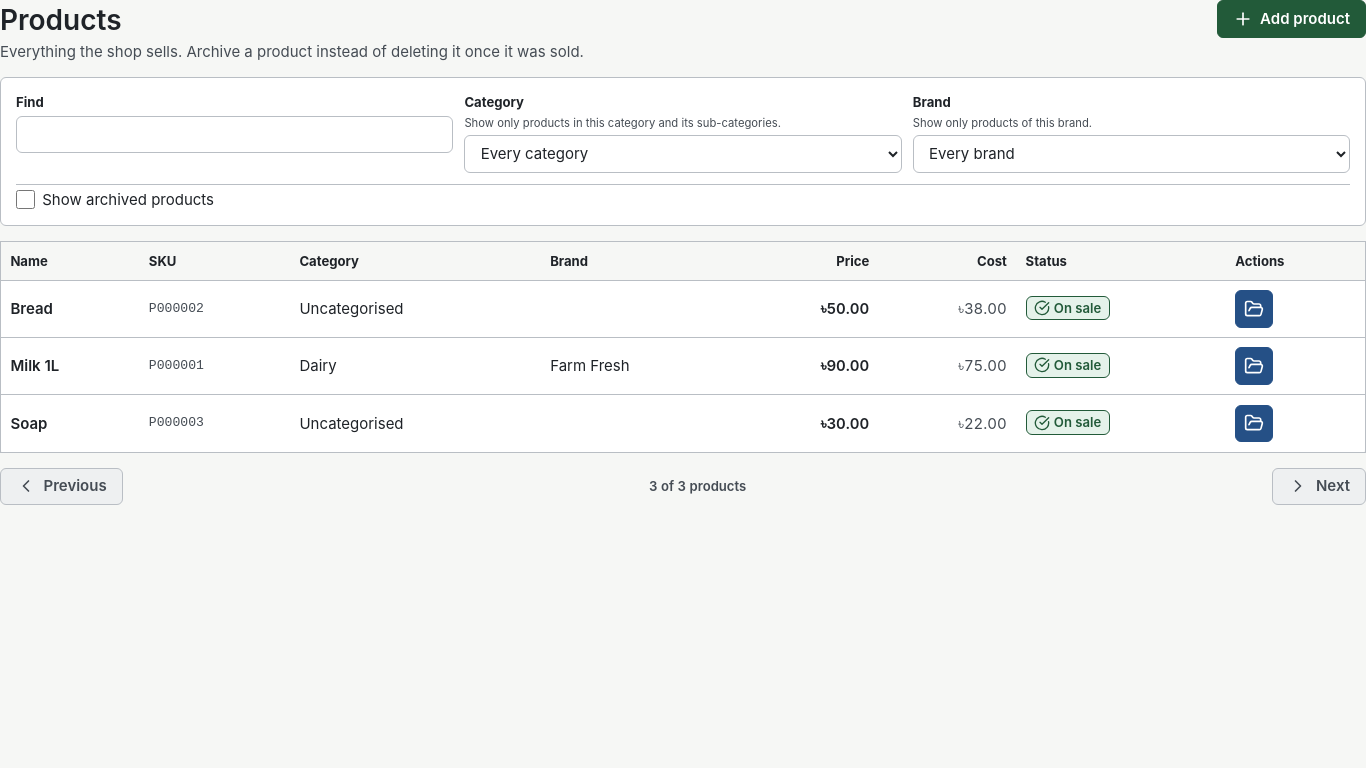
Scenario: ProductsPage (fake bridge) › cat_08: archive hides a product; it shows again with archived products and comes back
Click the button named "Open this product to change it. Bread".
click(1254, 309)  # box [1235,290,1273,328]
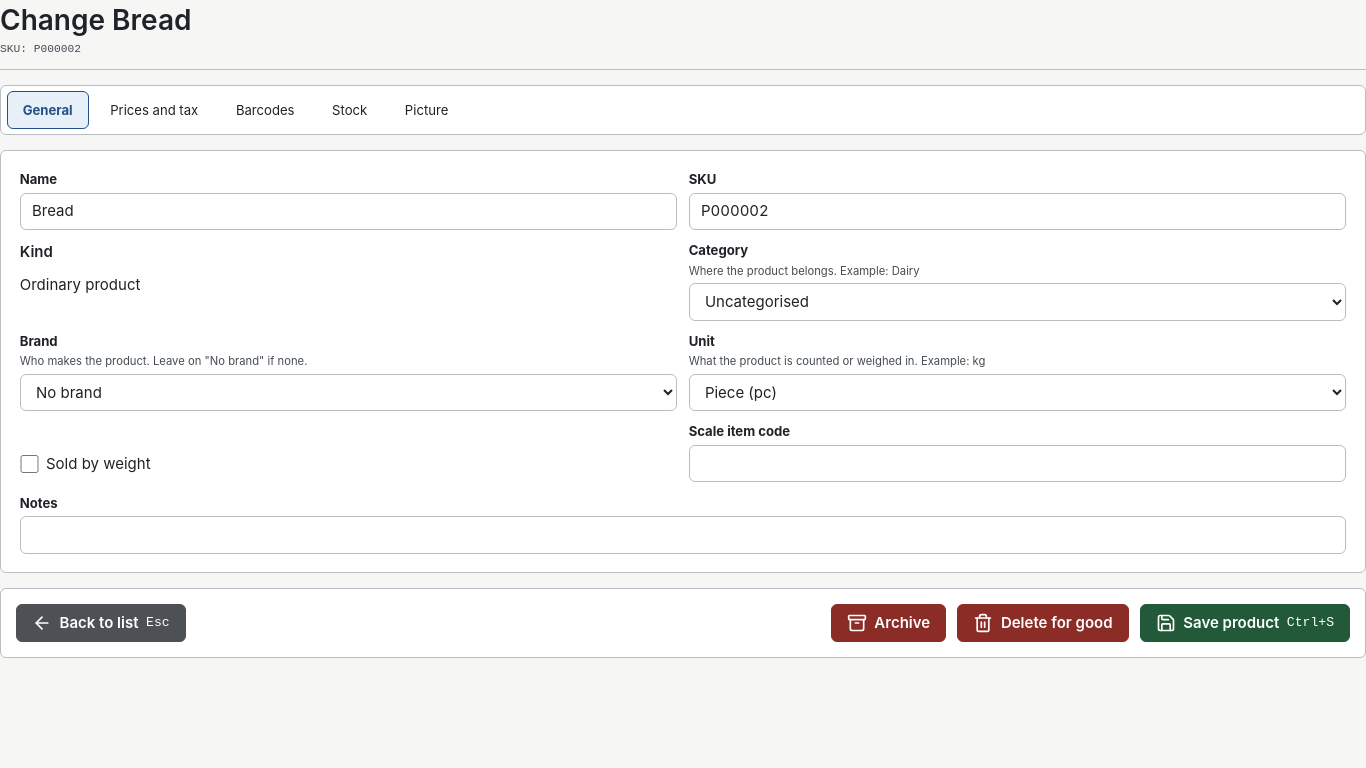
Click the button "Archive".
click(889, 623)  # box [831,604,946,642]
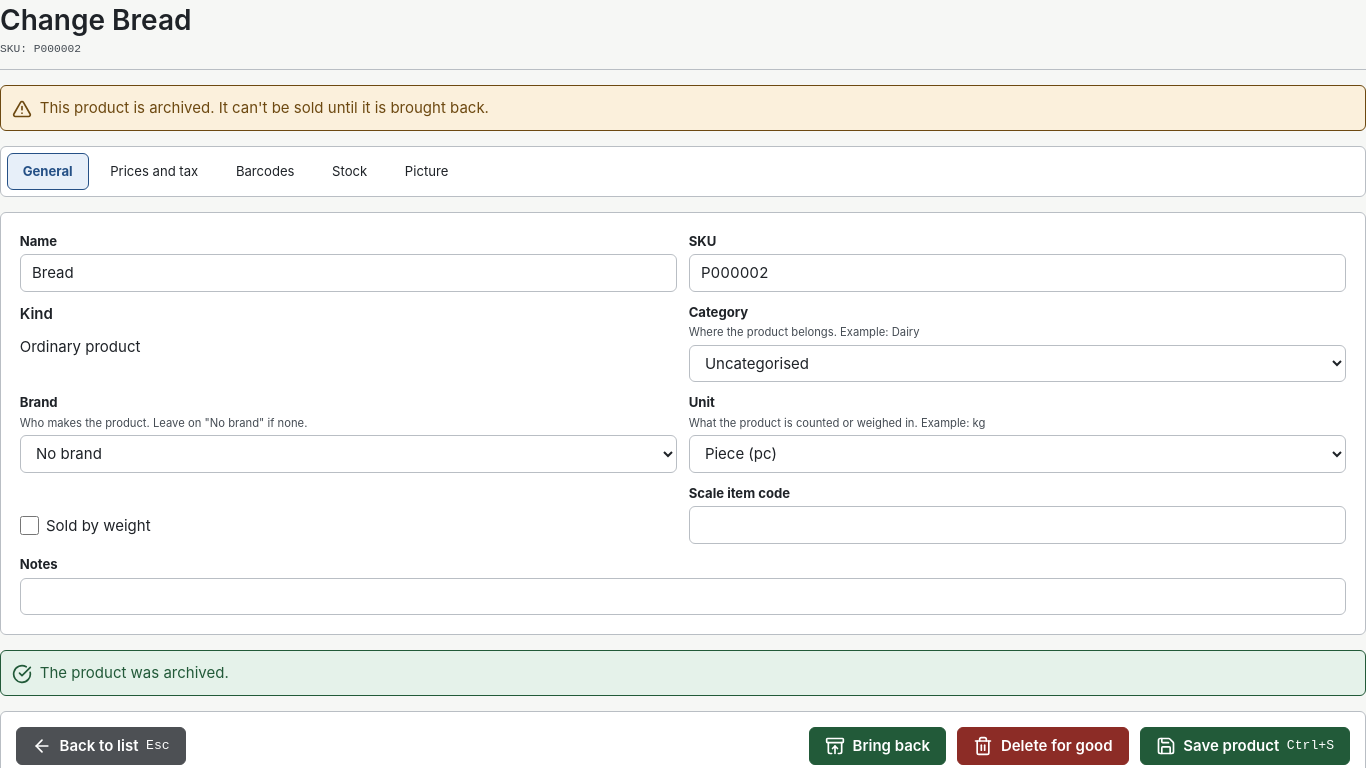
Check: the text "The product was archived." is shown, box [40,662,229,684]
Click the button "Back to list Esc".
click(101, 746)  # box [16,727,186,765]
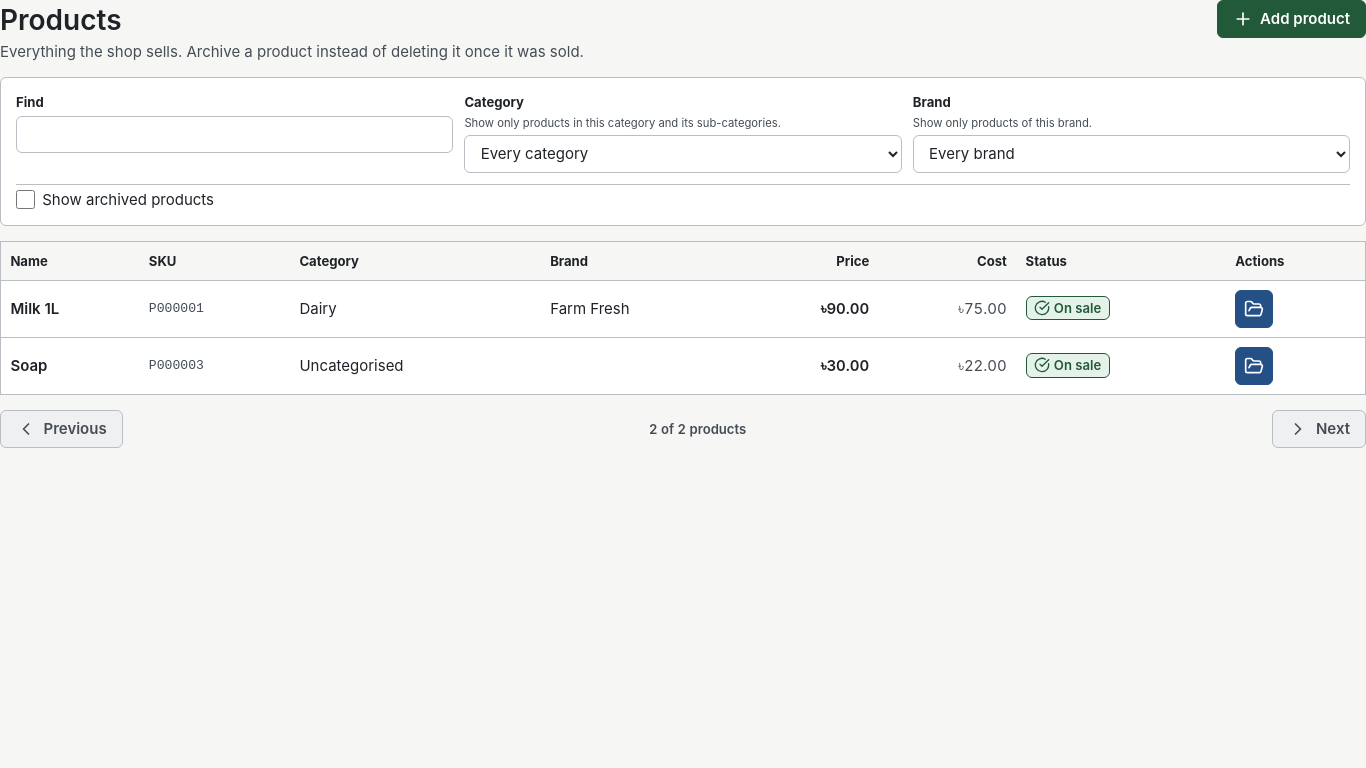
Check: the text "Milk 1L" is shown, box [0,280,139,338]
Check: the heading "Bread" is gone
Click the checkbox labelled "Show archived products".
click(25, 200)  # box [16,190,35,209]
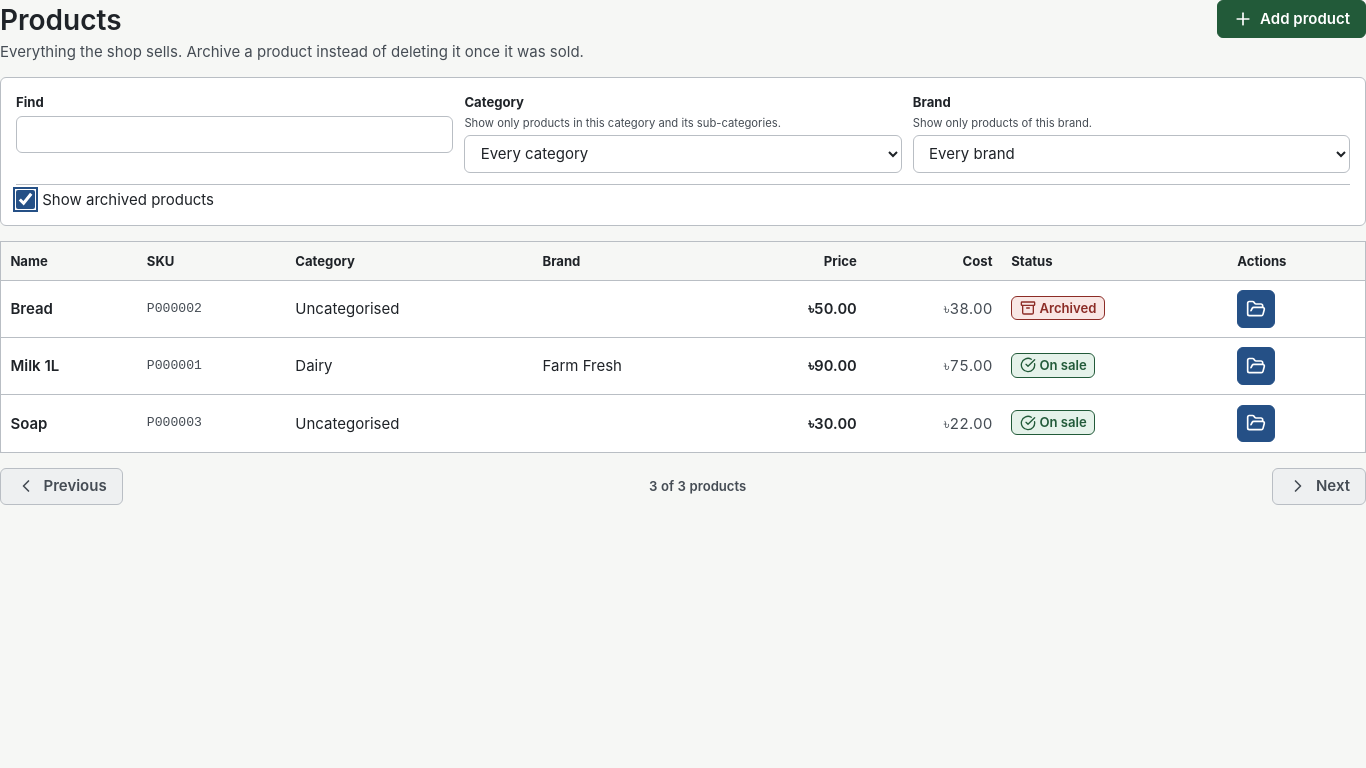
Click the button named "Open this product to change it. Bread".
click(1256, 309)  # box [1237,290,1275,328]
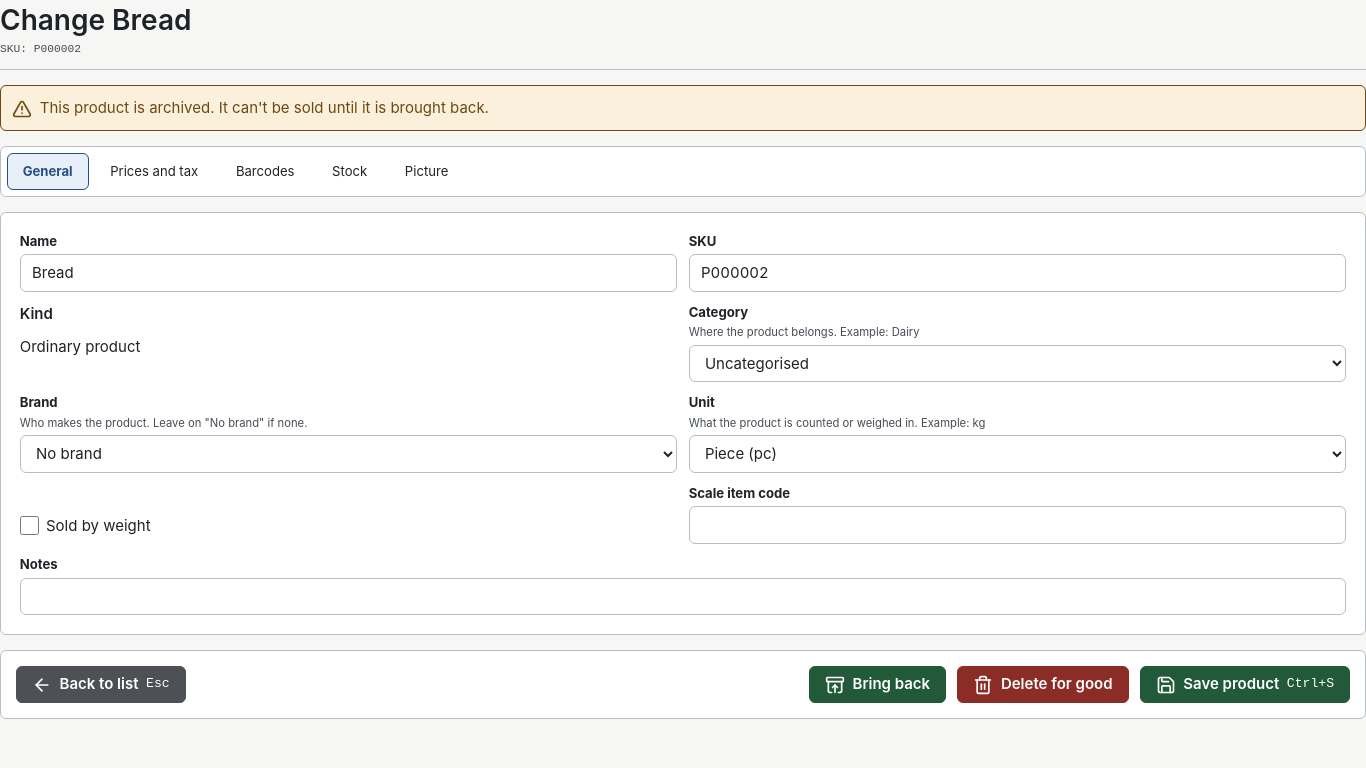
Click the button "Bring back".
click(878, 685)  # box [809,666,946,703]
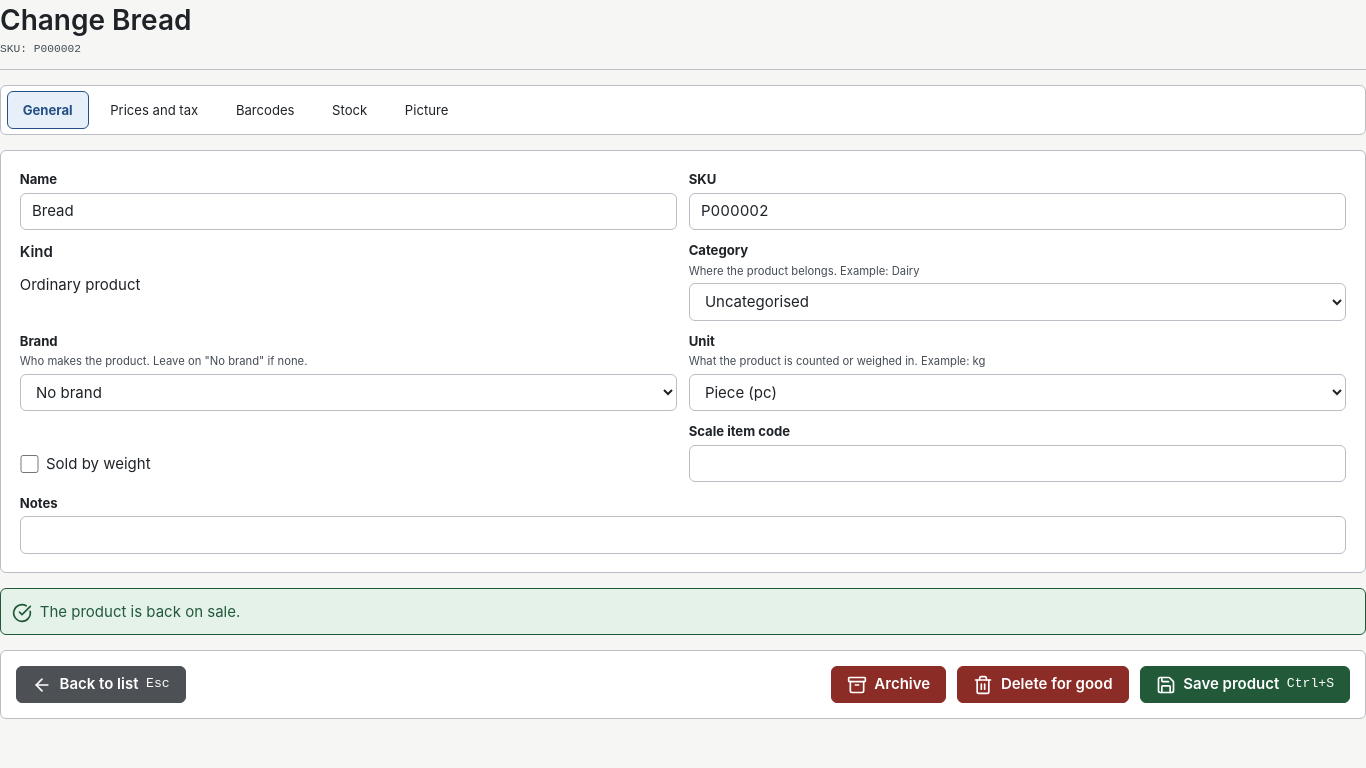
Check: the text "The product is back on sale." is shown, box [40,601,240,622]
